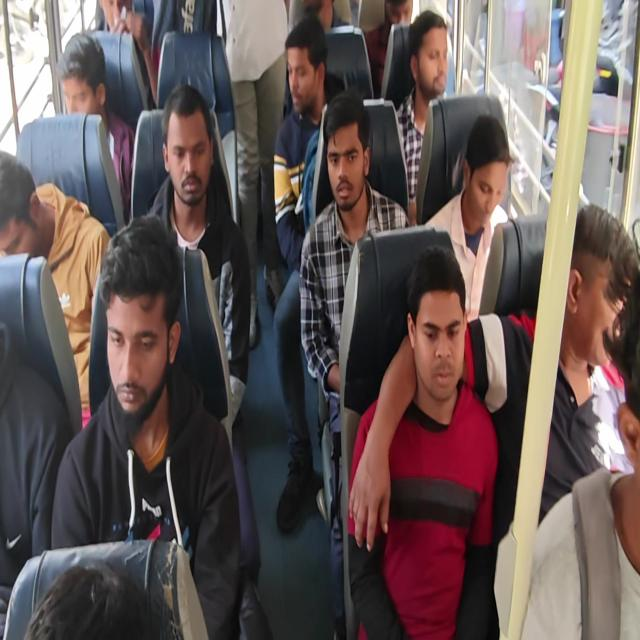person: (98, 205, 186, 439), (22, 556, 178, 640), (560, 199, 626, 388), (158, 80, 225, 214), (410, 237, 460, 411), (610, 222, 640, 461), (51, 28, 118, 134), (316, 97, 372, 205), (462, 115, 511, 223), (1, 134, 43, 259), (407, 5, 452, 100), (284, 24, 326, 117), (98, 2, 143, 32), (387, 1, 422, 30)
